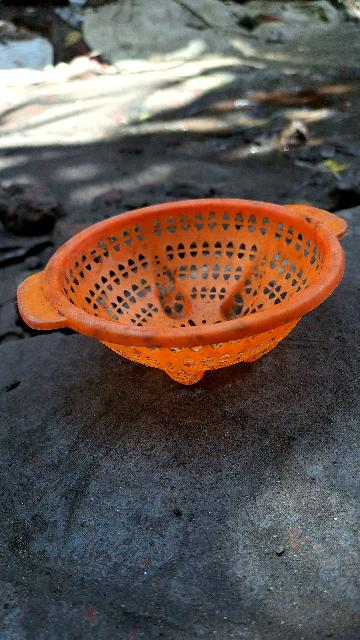hardplastic: (46, 194, 348, 388)
